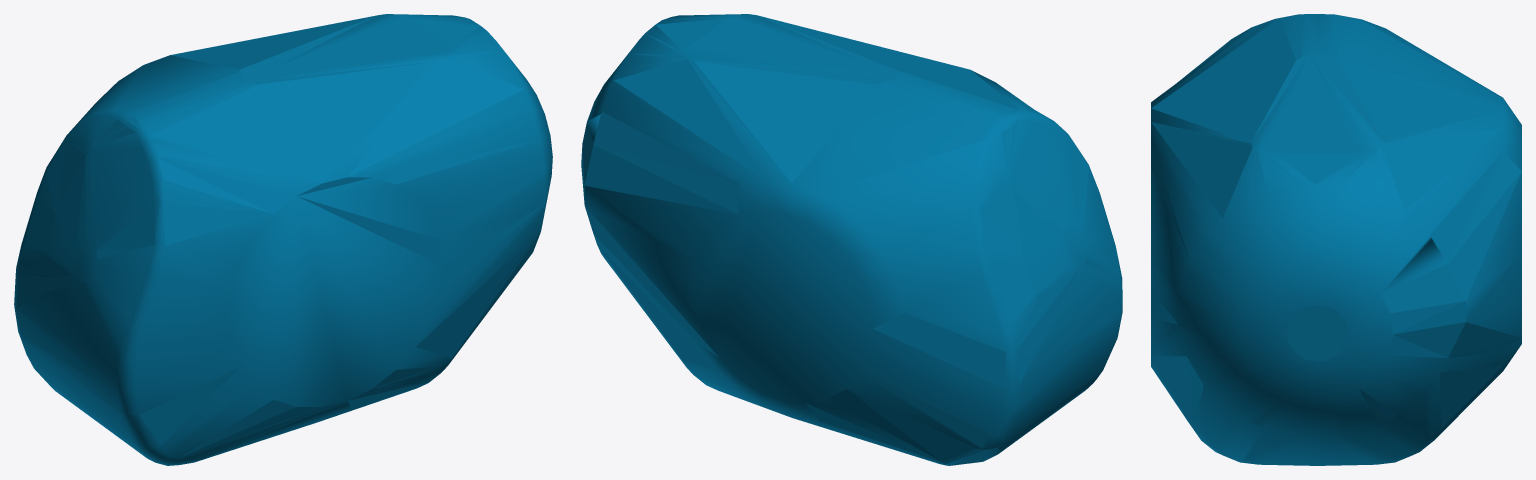
3 renders of one model, left to right at view 1: azimuth 30°, elevation 25°; view 2: azimuth 150°, elevation 25°; view 3: azimuth 270°, elevation 25°, orthographic. The views are drawn at different scales.
Visible parts, largest first — view 1: gp4_link_3_u; view 2: gp4_link_3_u; view 3: gp4_link_3_u.
Part boxes in pixels (x1,y1,x2,y2): gp4_link_3_u: (14, 14, 552, 465); gp4_link_3_u: (581, 14, 1122, 465); gp4_link_3_u: (1151, 14, 1521, 465).
Size of the model in its own units: 0.194 by 0.128 by 0.1317.
